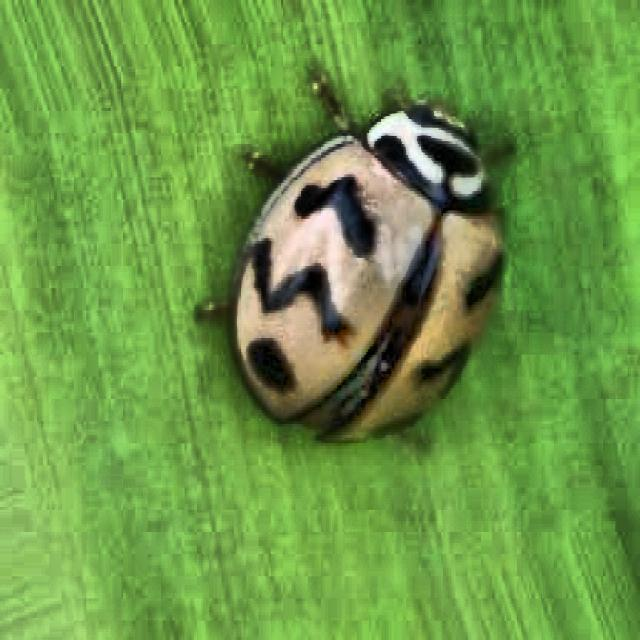Asian-Lady-beetle: (161, 39, 594, 602)
